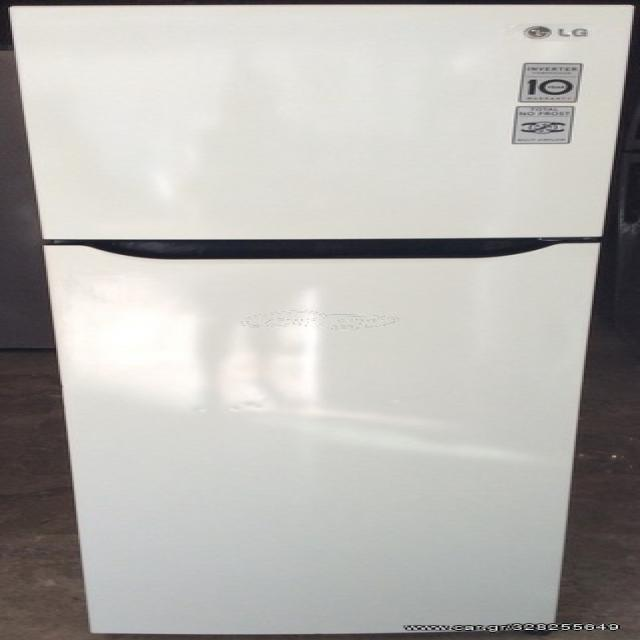refrigerator: (4, 5, 640, 631)
